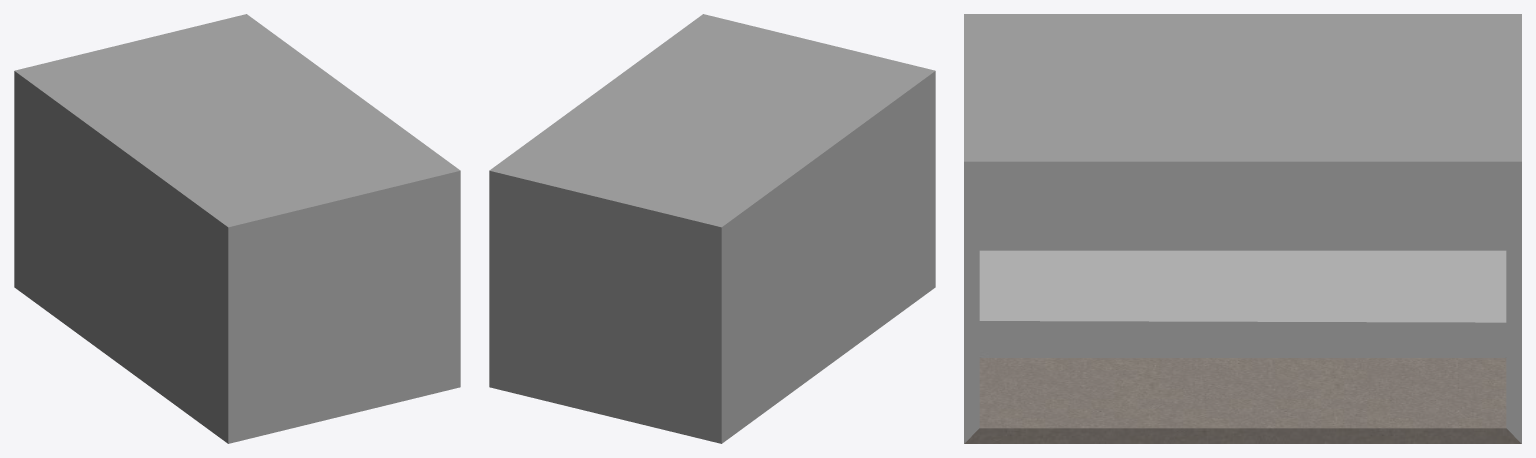
The model's file is Room_PlatformBack.fbx.
3 renders of one model, left to right at view 1: azimuth 30°, elevation 25°; view 2: azimuth 150°, elevation 25°; view 3: azimuth 270°, elevation 25°, orthographic. The views are drawn at different scales.
Visible parts, largest first — view 1: Room_PlatformBack; view 2: Room_PlatformBack; view 3: Room_PlatformBack.
Part boxes in pixels (x1,y1,x2,y2): Room_PlatformBack: [14, 14, 460, 443]; Room_PlatformBack: [489, 14, 935, 443]; Room_PlatformBack: [964, 14, 1521, 443].
Bounding box in the file's own units: 4.33 × 3.86 × 6.91.
Materials: 3 (2 with a texture image).
